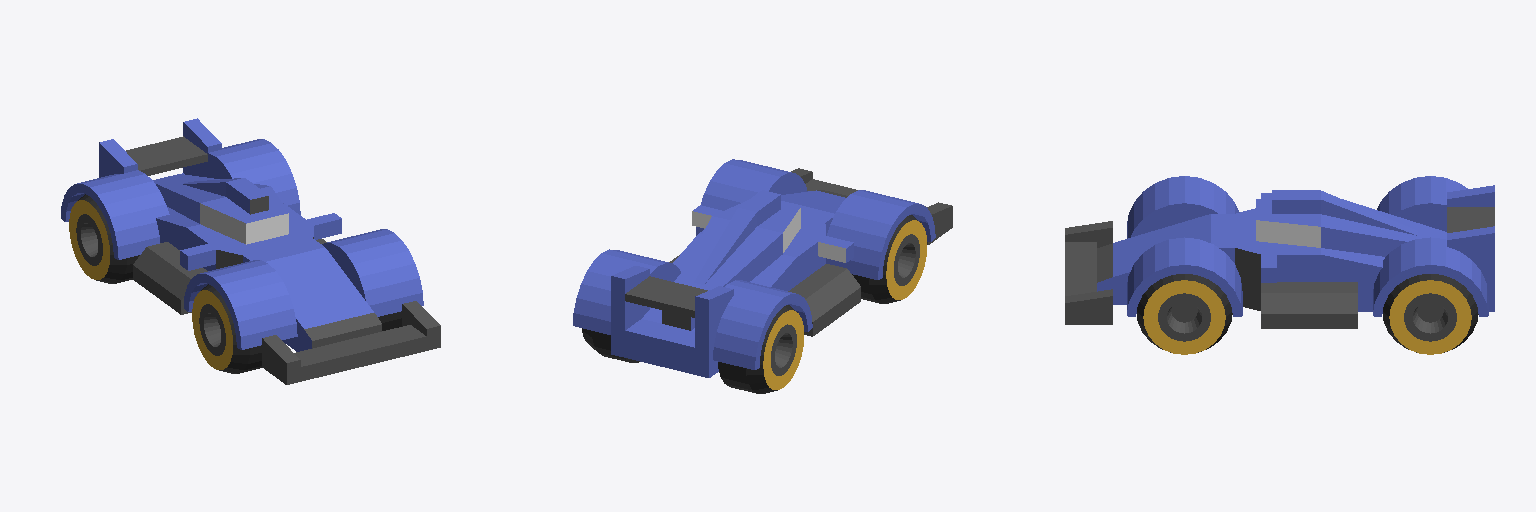
The model's file is racefuture.obj.
3 views of the same model, side by side, from view 1: azimuth 30°, elevation 25°; view 2: azimuth 150°, elevation 25°; view 3: azimuth 270°, elevation 25° (orthographic).
Parts seen in each view (by area): view 1: body, wheel_frontRight, wheel_backRight; view 2: body, wheel_backRight, wheel_frontRight, wheel_backLeft; view 3: body, wheel_frontLeft, wheel_backLeft.
Boxes of the visible parts, x1=… form: body: x1=61, y1=118, x2=440, y2=384; wheel_frontRight: x1=192, y1=284, x2=261, y2=373; wheel_backRight: x1=69, y1=194, x2=139, y2=283; body: x1=573, y1=159, x2=952, y2=377; wheel_backRight: x1=718, y1=305, x2=803, y2=393; wheel_frontRight: x1=852, y1=215, x2=926, y2=303; wheel_backLeft: x1=582, y1=328, x2=639, y2=362; body: x1=1065, y1=176, x2=1494, y2=328; wheel_frontLeft: x1=1137, y1=274, x2=1232, y2=354; wheel_backLeft: x1=1383, y1=274, x2=1478, y2=354.
Bounding box in the file's own units: 51.18 × 32.78 × 105.